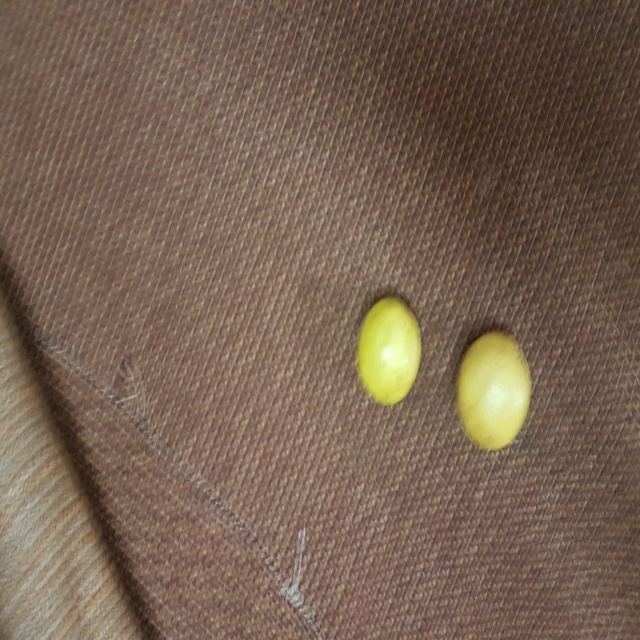lemon: (447, 322, 548, 462), (350, 288, 427, 409)
